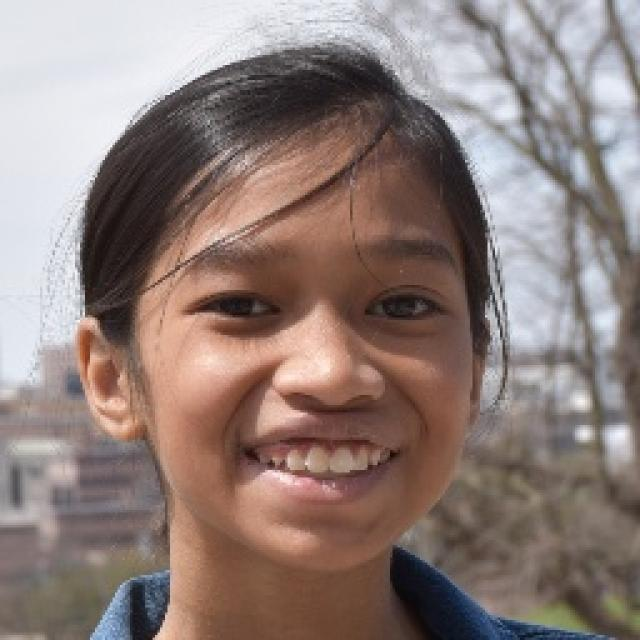earlobe: (74, 315, 145, 442), (465, 318, 492, 437)
